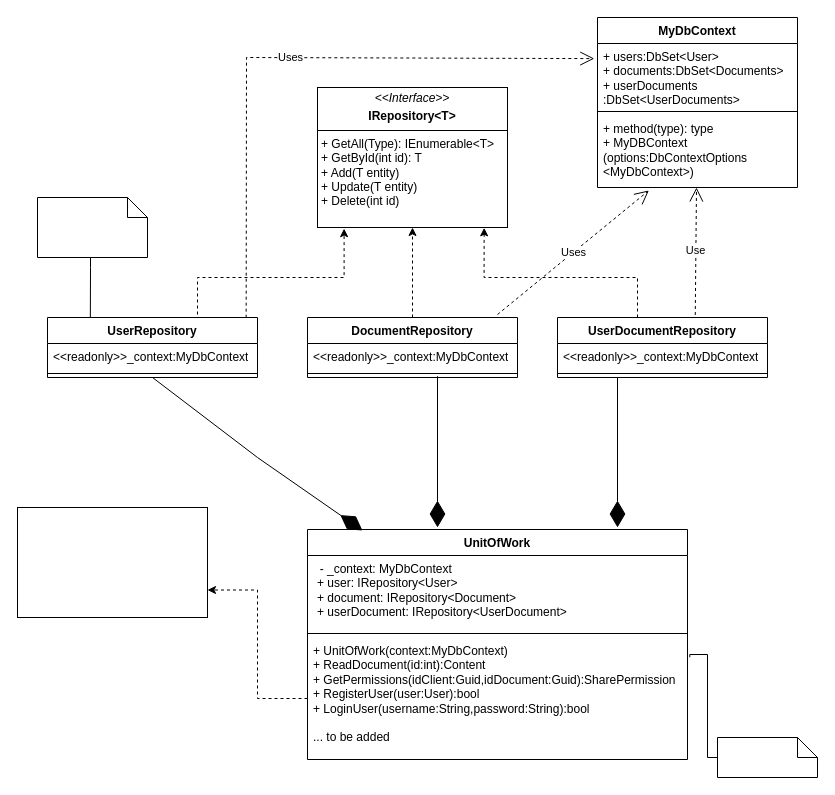
The diagram is 835 pixels wide and 795 high, and some of its shapes have lost their labels. Each missing label, with the centre of its shape:
"<<Interface>> IUnitOfWork + Complete(): int" belongs at point (112, 562).
"CRUD pentru toate tabelele" belongs at point (92, 227).
"Point of entry" belongs at point (767, 757).
